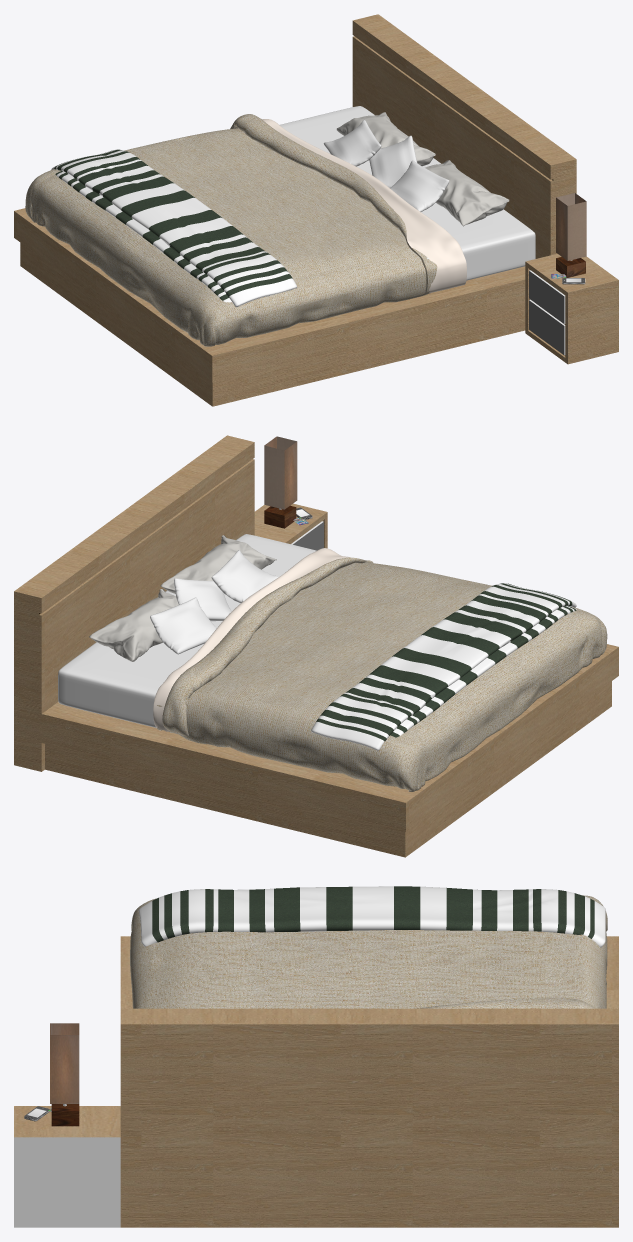
The model's file is Bed.glb.
3 views of the same model, one above another, from view 1: azimuth 30°, elevation 25°; view 2: azimuth 150°, elevation 25°; view 3: azimuth 270°, elevation 25° (orthographic). The views are drawn at different scales.
Visible parts, largest first — view 1: object 17, object 16, object 9, object 8, object 15, Groupe#5 (×3), Groupe#4 (×2), object 4; view 2: object 17, object 16, object 9, object 15, Groupe#5 (×3), Groupe#4 (×2), object 4, object 8, object 5; view 3: object 17, object 16, object 9, object 8, object 4, object 5.
Boxes of the visible parts, left/top/right/bottom form: object 17: left=14, top=14, right=576, bottom=406; object 16: left=25, top=114, right=466, bottom=346; object 9: left=51, top=149, right=297, bottom=307; object 8: left=525, top=253, right=618, bottom=364; object 15: left=279, top=106, right=535, bottom=280; Groupe#5 (×3): left=323, top=119, right=449, bottom=211; Groupe#4 (×2): left=336, top=112, right=509, bottom=226; object 4: left=556, top=193, right=586, bottom=260; object 17: left=14, top=435, right=618, bottom=857; object 16: left=153, top=548, right=607, bottom=791; object 9: left=311, top=583, right=576, bottom=750; object 15: left=58, top=534, right=316, bottom=727; Groupe#5 (×3): left=150, top=550, right=278, bottom=654; Groupe#4 (×2): left=89, top=535, right=276, bottom=661; object 4: left=264, top=436, right=297, bottom=509; object 8: left=254, top=503, right=327, bottom=550; object 5: left=264, top=505, right=296, bottom=528; object 17: left=120, top=936, right=618, bottom=1227; object 16: left=130, top=895, right=607, bottom=1008; object 9: left=138, top=886, right=605, bottom=947; object 8: left=14, top=1106, right=120, bottom=1227; object 4: left=50, top=1023, right=79, bottom=1103; object 5: left=51, top=1104, right=79, bottom=1126.
Size of the model in its own units: 2.12 by 0.9 by 2.43.
Materials: 38 (19 with a texture image).
